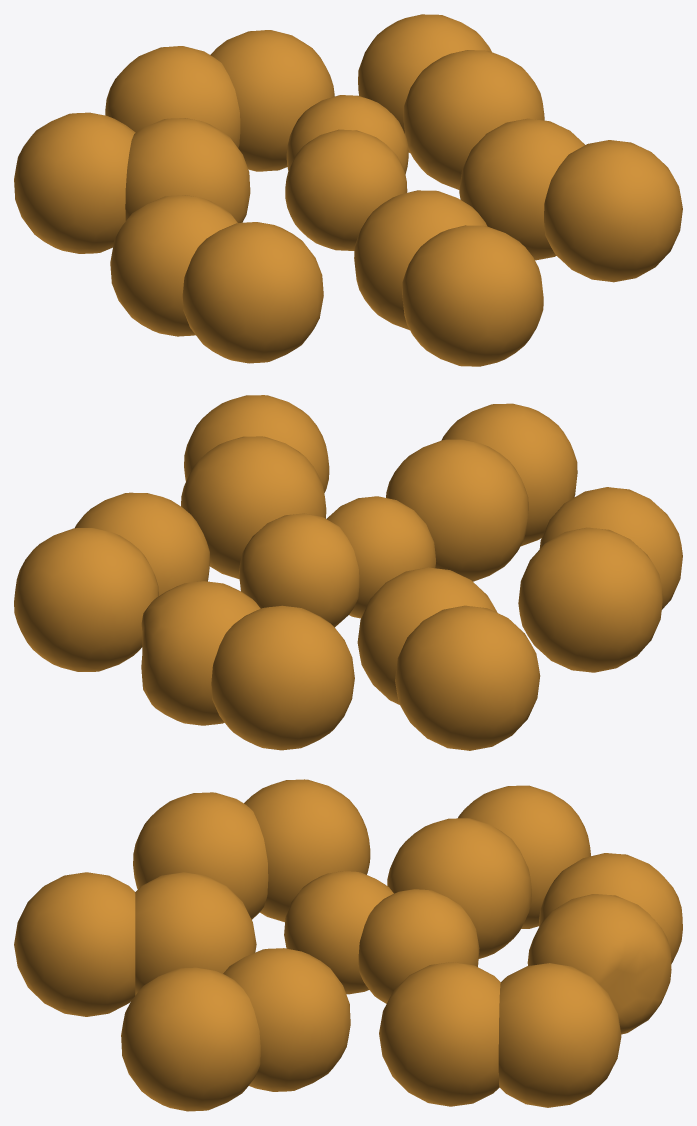
File: СупИзСемиЗалуп(Bej).obj
3 views of the same model, one above another, from view 1: azimuth 30°, elevation 25°; view 2: azimuth 150°, elevation 25°; view 3: azimuth 270°, elevation 25° (orthographic). The views are drawn at different scales.
Parts seen in each view (by area): view 1: Icosphere.001; view 2: Icosphere.001; view 3: Icosphere.001.
Part boxes in pixels (x1,y1,x2,y2): Icosphere.001: (14,14,682,366); Icosphere.001: (14,395,682,750); Icosphere.001: (14,779,682,1111).
Bounding box in the file's own units: 1.46 × 0.3685 × 1.65.
